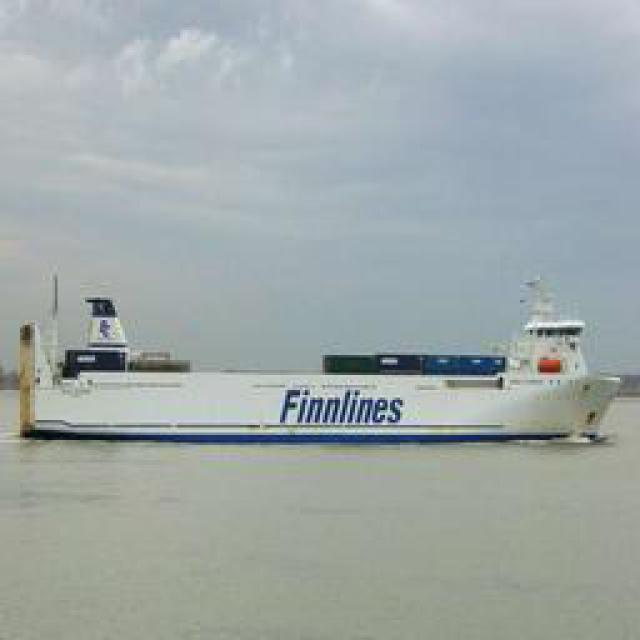Ship: (14, 268, 619, 443)
